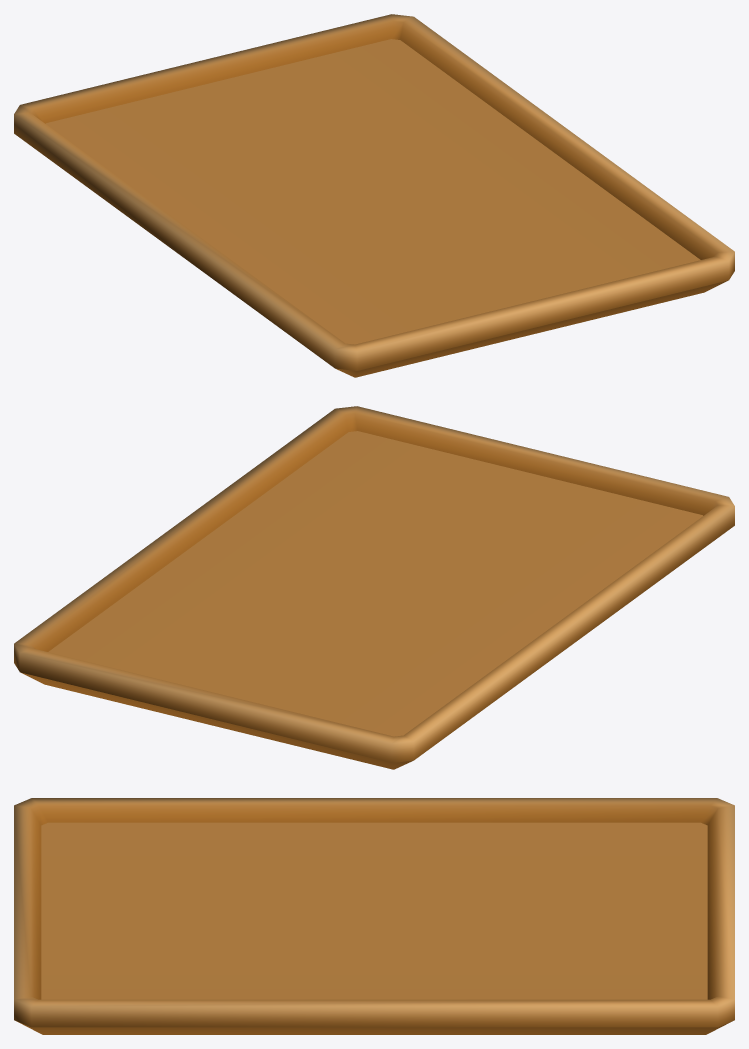
File: CR_caf_Dish_009.FBX
The picture shows the model from 3 angles, top to bottom: view 1: azimuth 30°, elevation 25°; view 2: azimuth 150°, elevation 25°; view 3: azimuth 270°, elevation 25°; orthographic projection. The views are drawn at different scales.
Visible parts, largest first — view 1: CR_caf_Dish_009; view 2: CR_caf_Dish_009; view 3: CR_caf_Dish_009.
Part boxes in pixels (left/top/right/bottom): CR_caf_Dish_009: left=14, top=14, right=734, bottom=377; CR_caf_Dish_009: left=14, top=406, right=734, bottom=769; CR_caf_Dish_009: left=14, top=798, right=734, bottom=1034.
Size of the model in its own units: 29.18 by 2.69 by 42.62.
